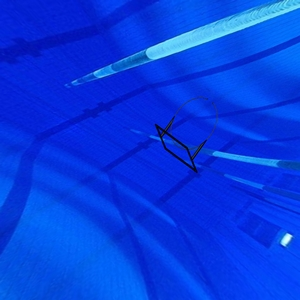circle: (154, 94, 221, 175)
